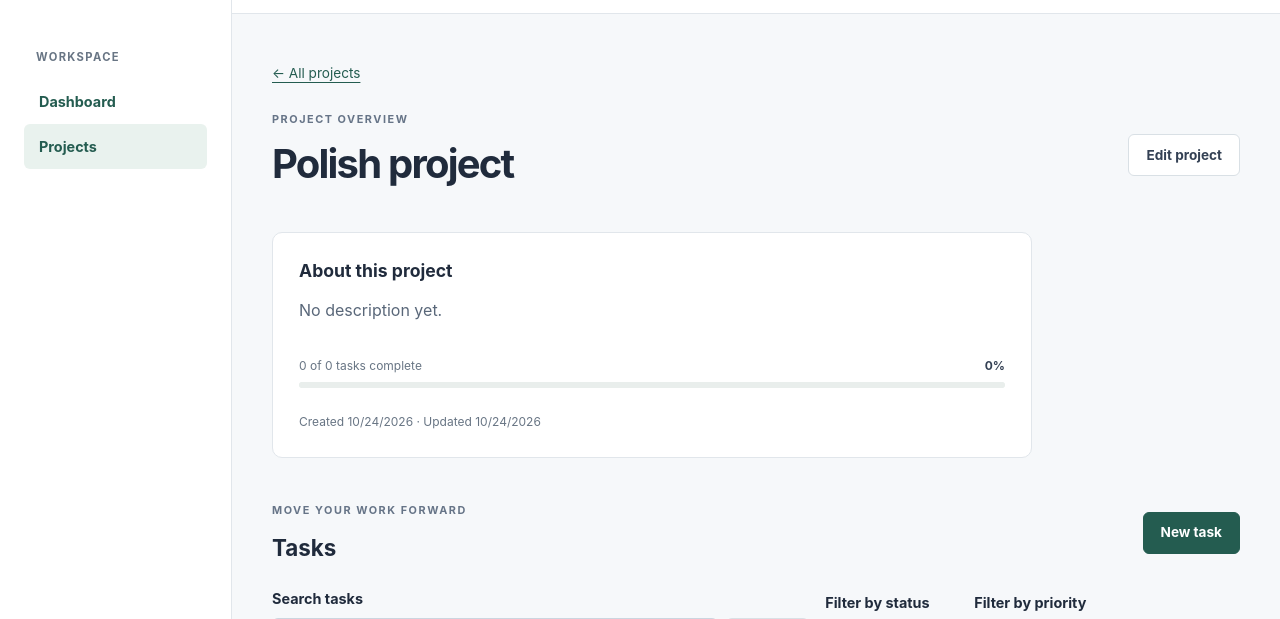
Test: returns focus to New task after cancelling or saving the task form
Click the button "New task" at (1191, 533), box [1142,512,1240,554]
(page scrolled)
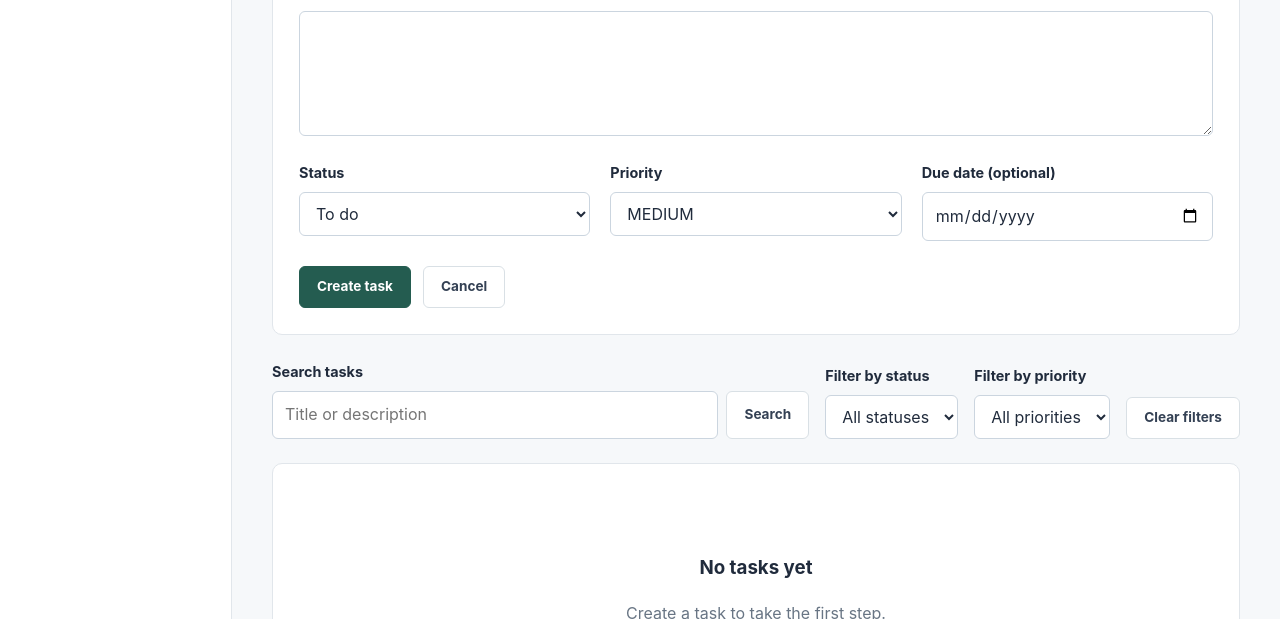
Click the button "Cancel" at (464, 287), box [423,266,505,308]
(page scrolled)
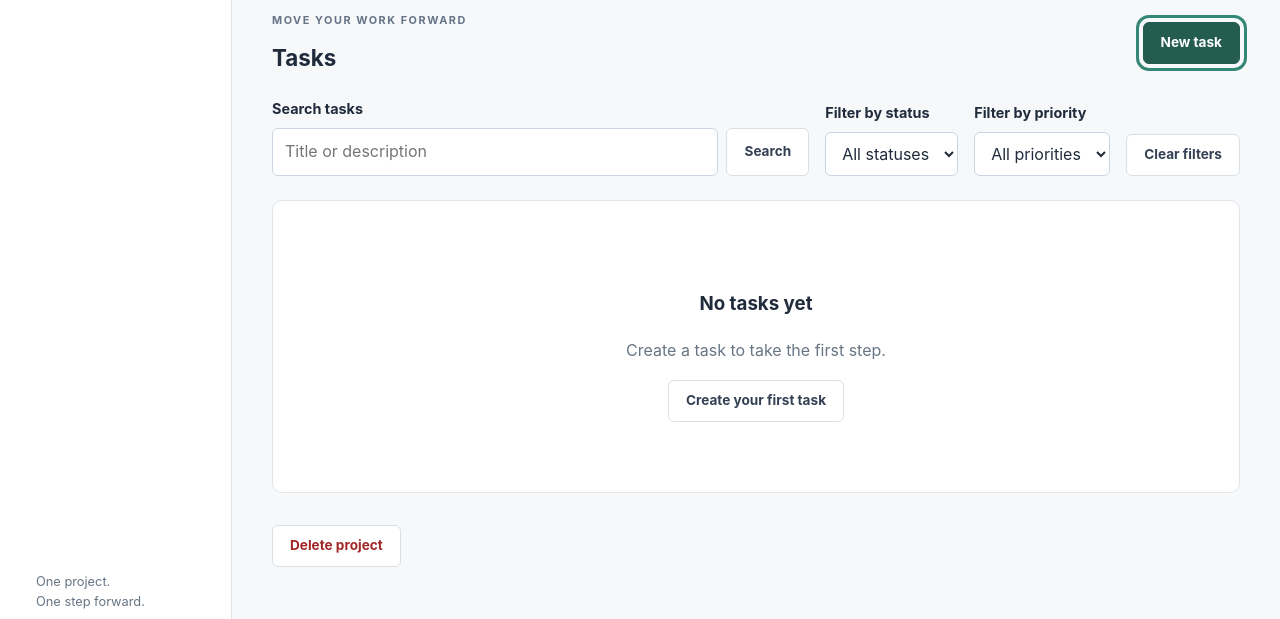
Click the button "New task" at (1191, 43), box [1142,22,1240,64]
(page scrolled)
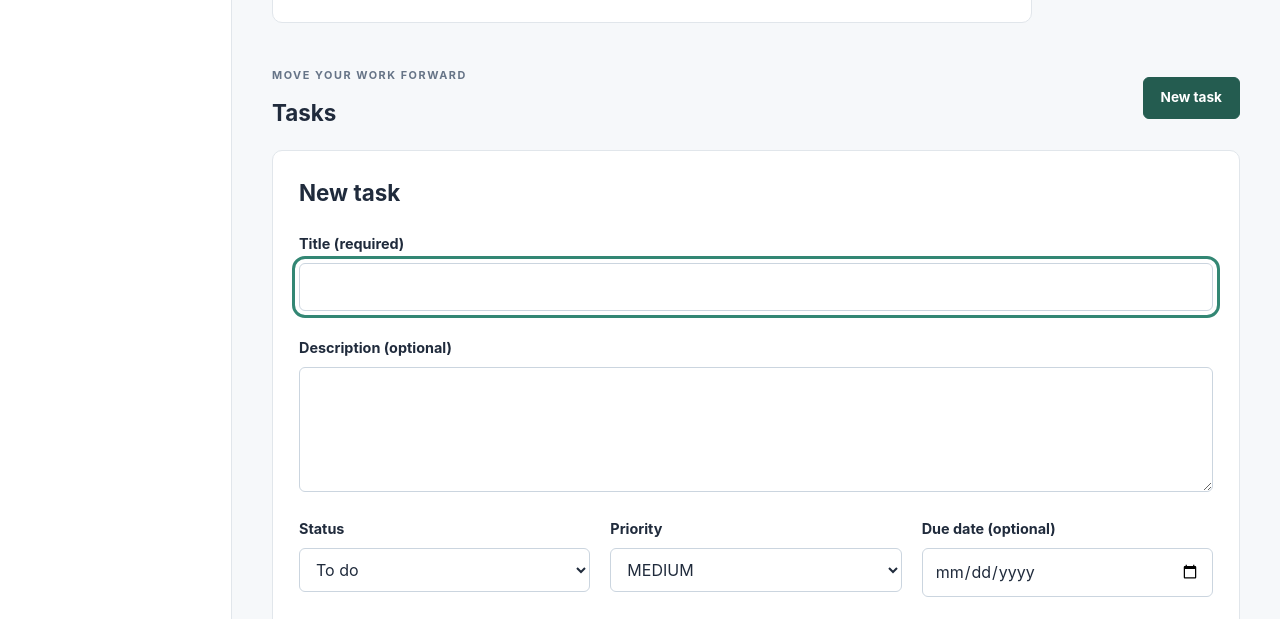
Type "Keyboard task" into the field labelled "Title (required)" at (756, 287), box [299,264,1213,311]
(page scrolled)
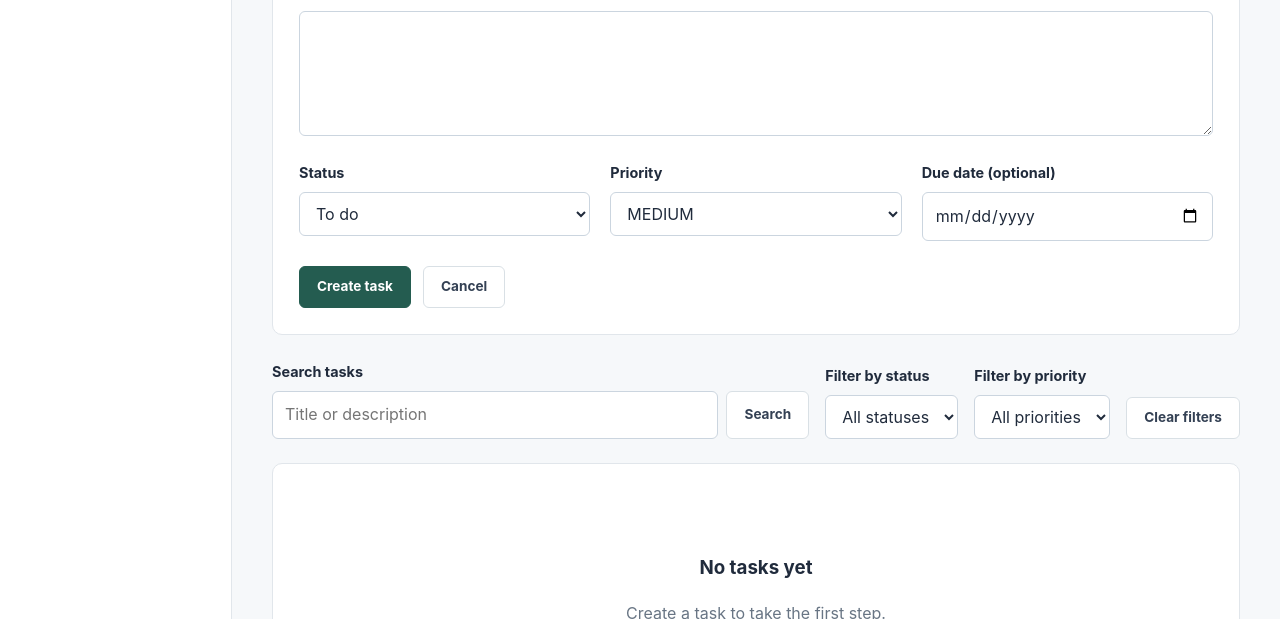
Click the button "Create task" at (355, 287), box [299,266,411,308]
(page scrolled)
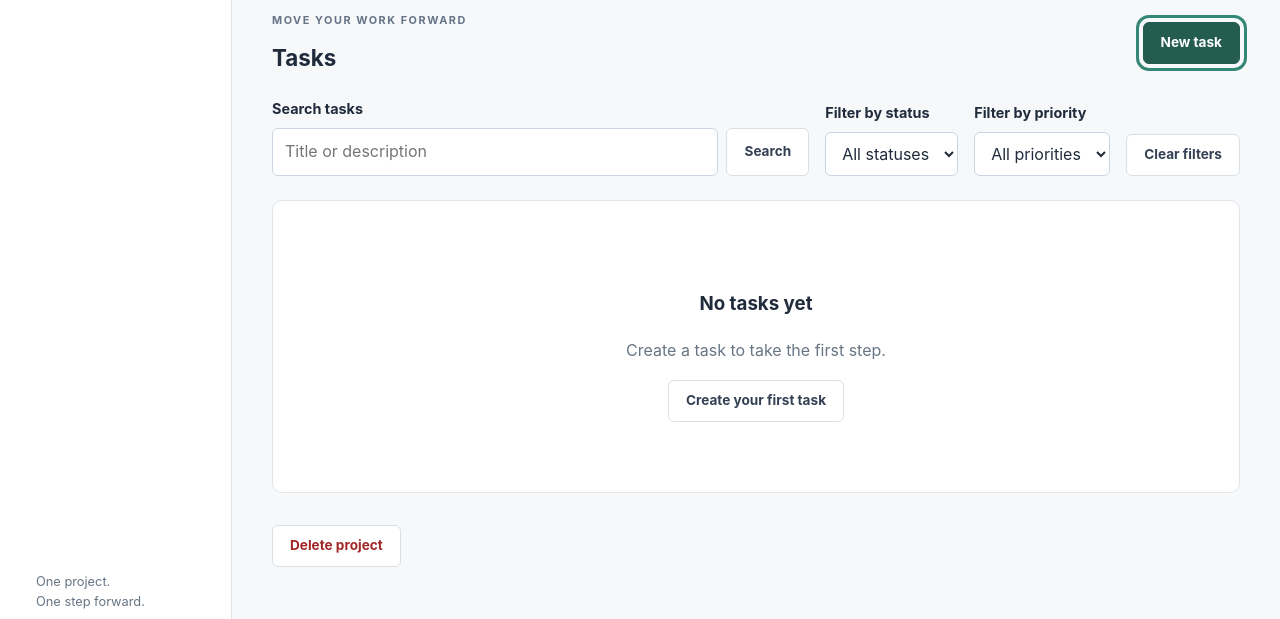
Expected: the button "Cancel" is gone
